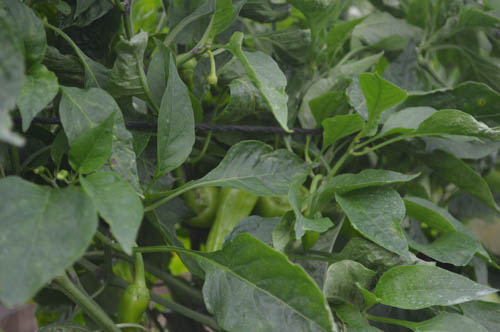ChiliPepper: (209, 181, 252, 262), (117, 289, 149, 326)
